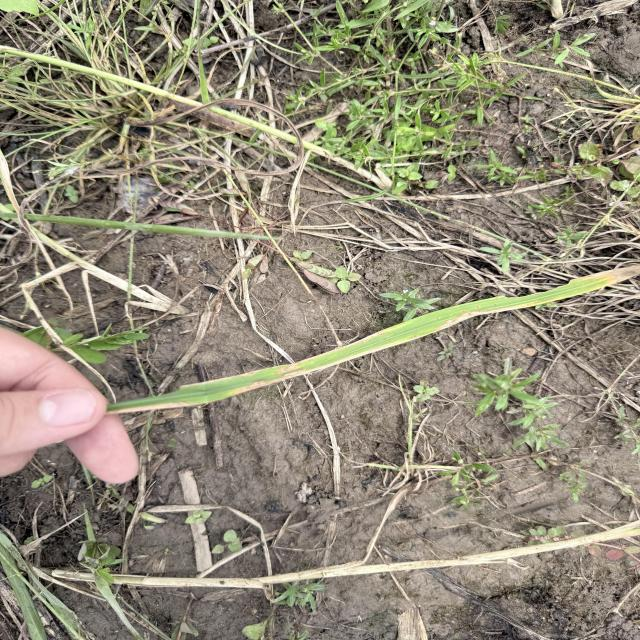Chay bia la: (227, 337, 417, 395), (422, 304, 535, 339), (572, 265, 640, 286), (107, 400, 199, 414)
